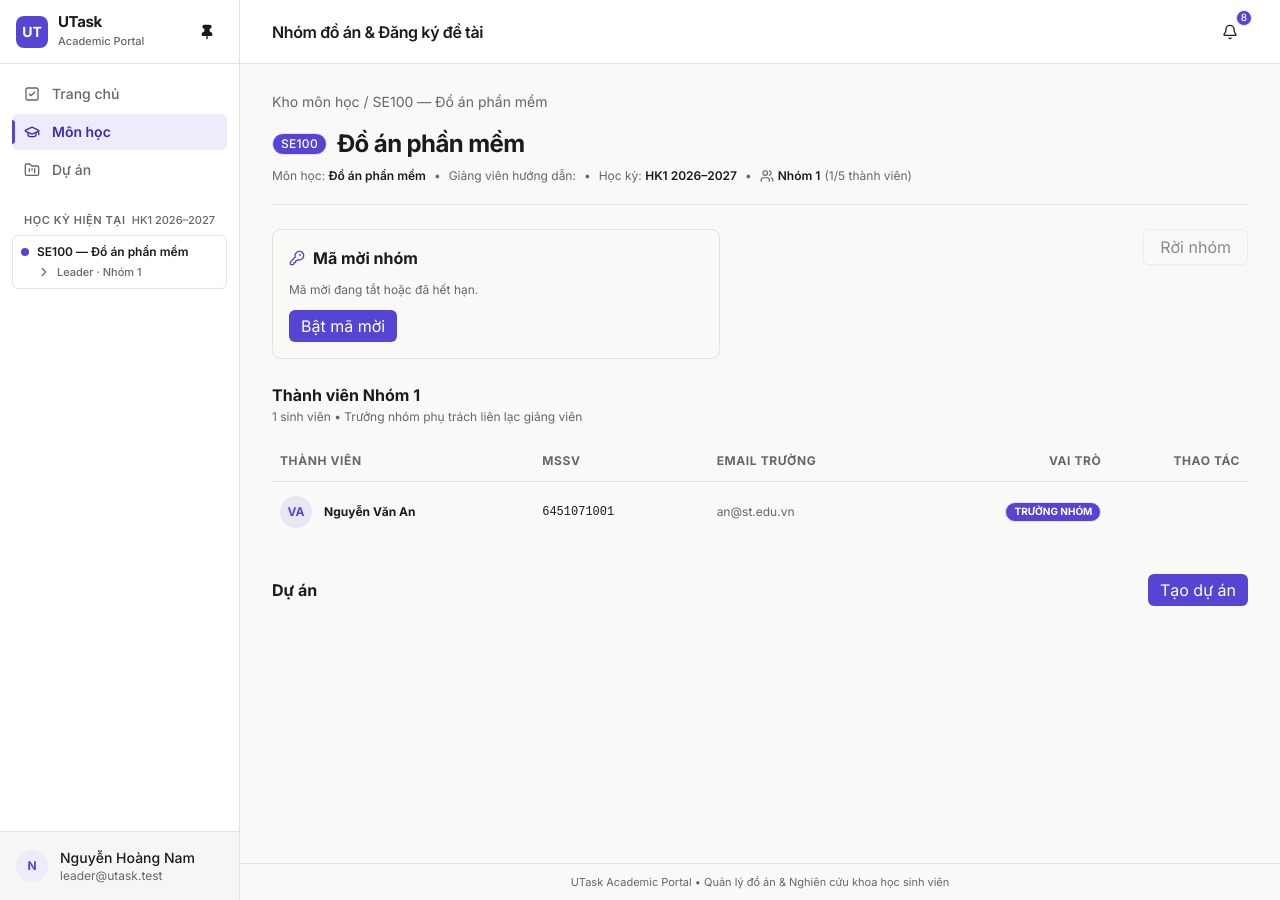
Scenario: TeamProjectSection — Leader › shows DUPLICATE_IDENTIFIER error on the identifier field
The width and height of the screenshot is (1280, 900).
Click the button "Tạo dự án": (1198,590) [1148,574,1248,606]
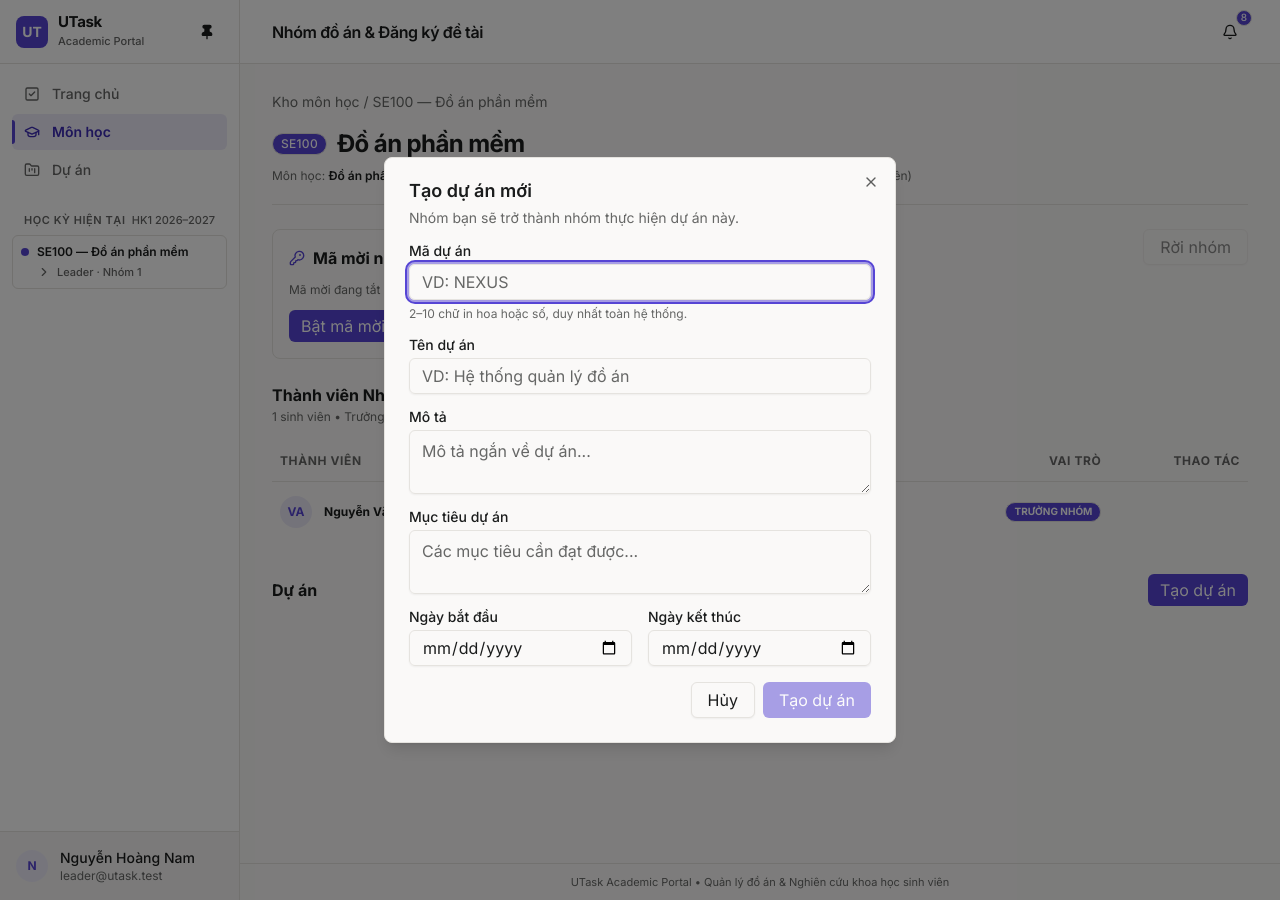
Check: the dialog "Tạo dự án mới" is shown, box [384,157,896,743]
In the field labelled "Mã dự án": (640,282) [409,264,871,300], type "ZP9T"
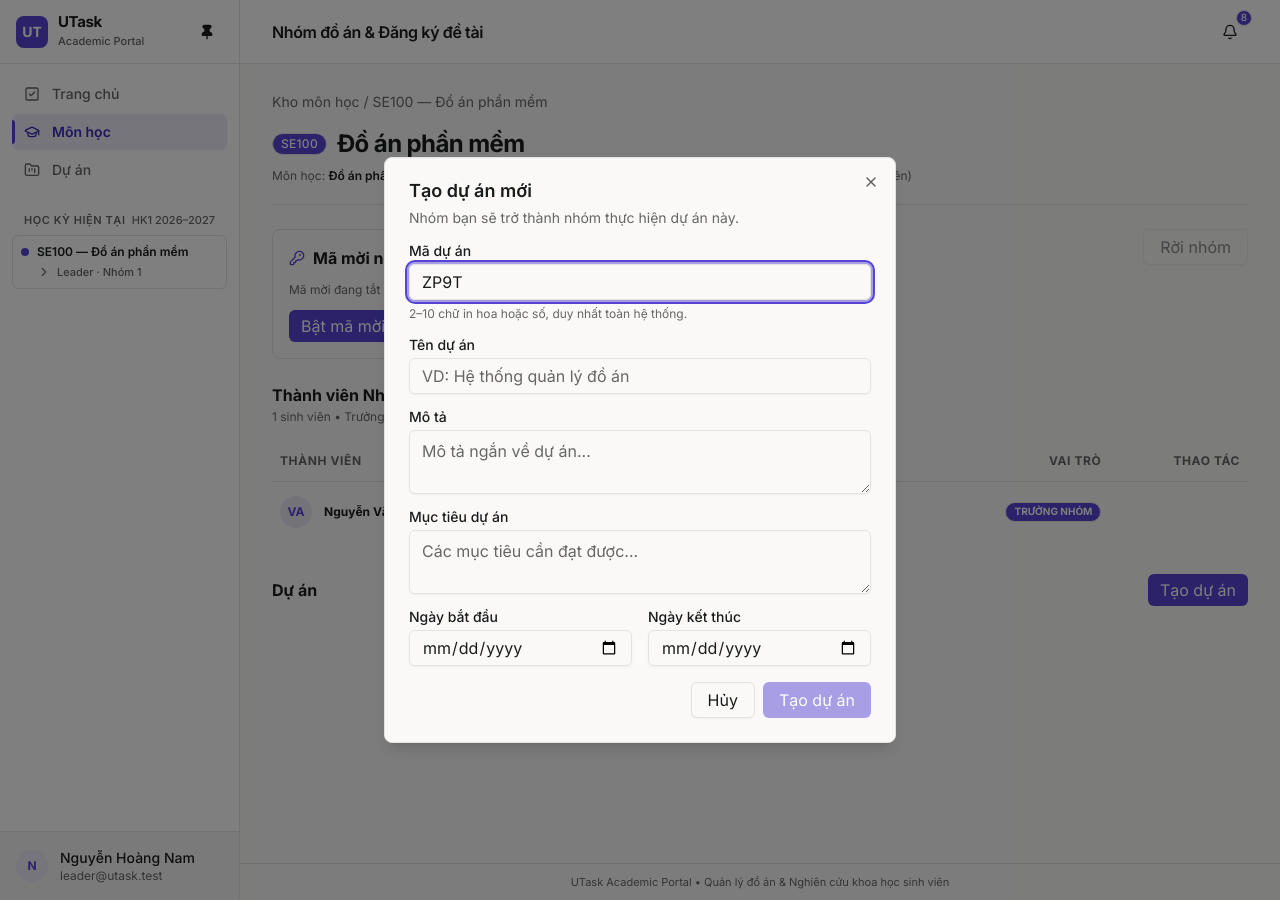
In the field labelled "Tên dự án": (640,376) [409,358,871,394], type "Dự án kiểm thử"
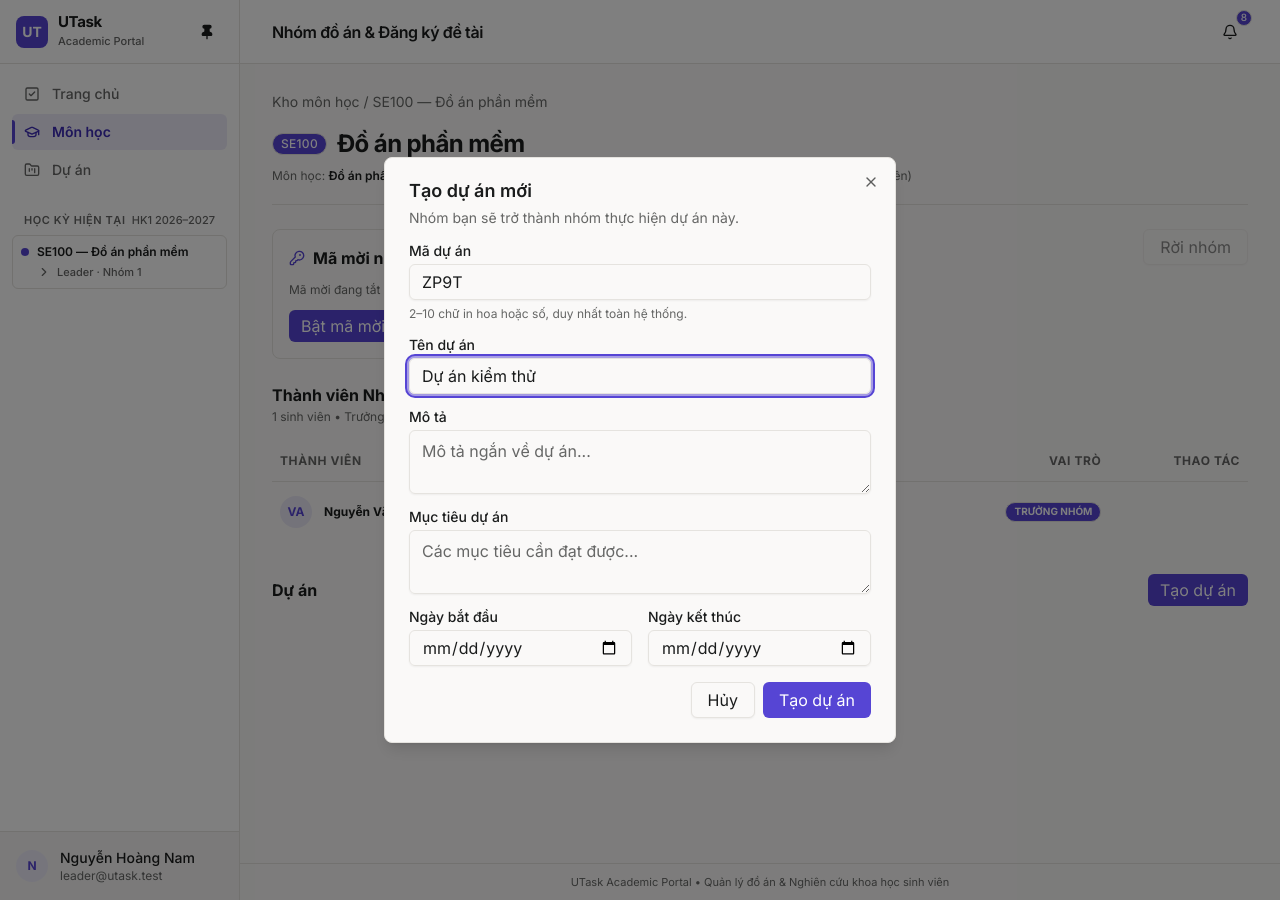
Click the button "Tạo dự án": (817,700) [763,682,871,718]
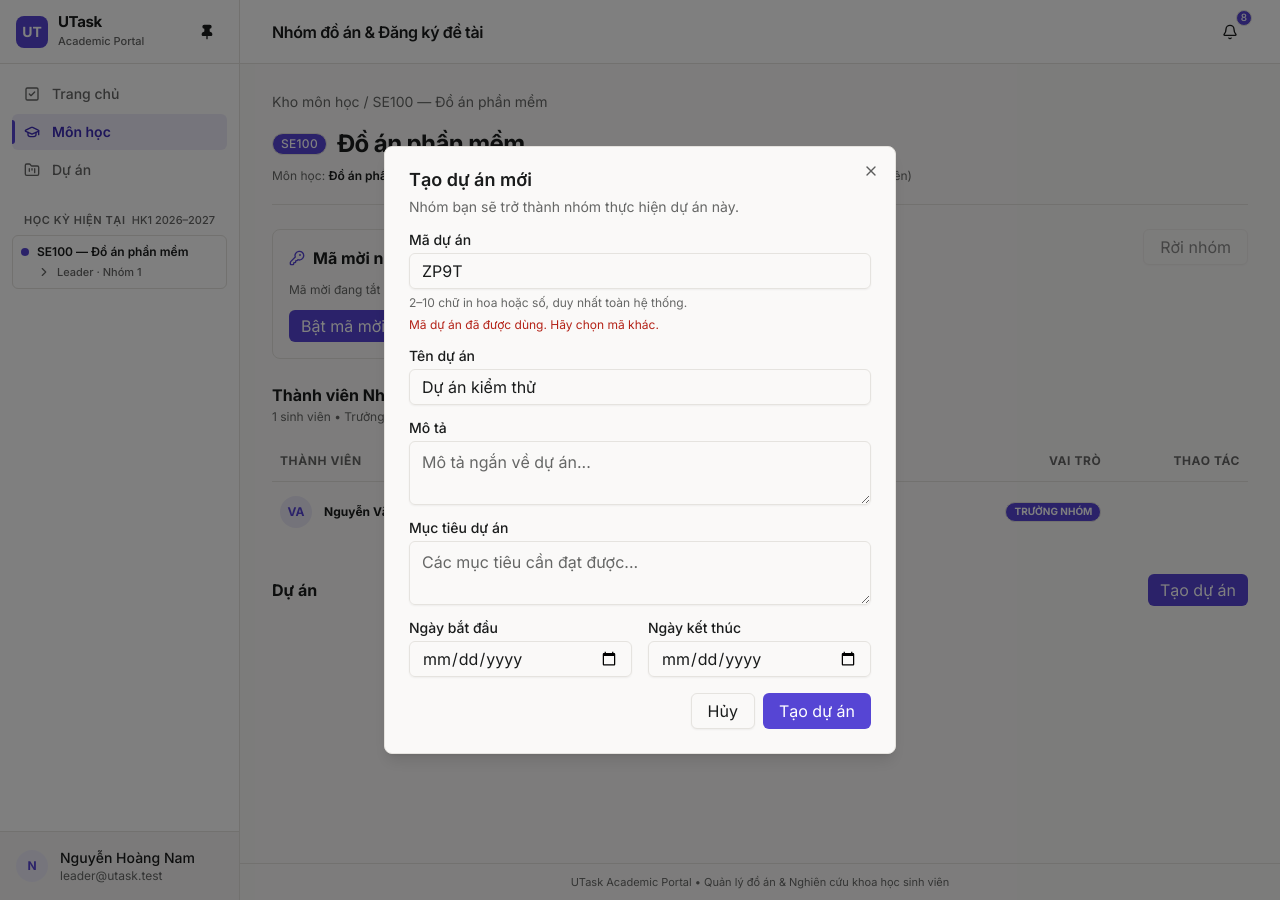
Check: the dialog "Tạo dự án mới" is shown, box [384,146,896,754]
Check: the text "Mã dự án đã được dùng. Hãy chọn mã khác." is shown, box [409,317,659,332]
